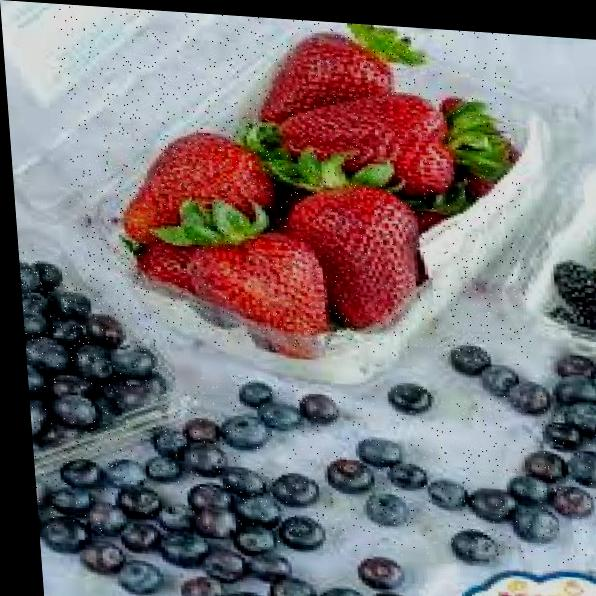blueberries: (27, 361, 596, 572), (18, 249, 171, 464)
strawberries: (53, 4, 533, 367)
